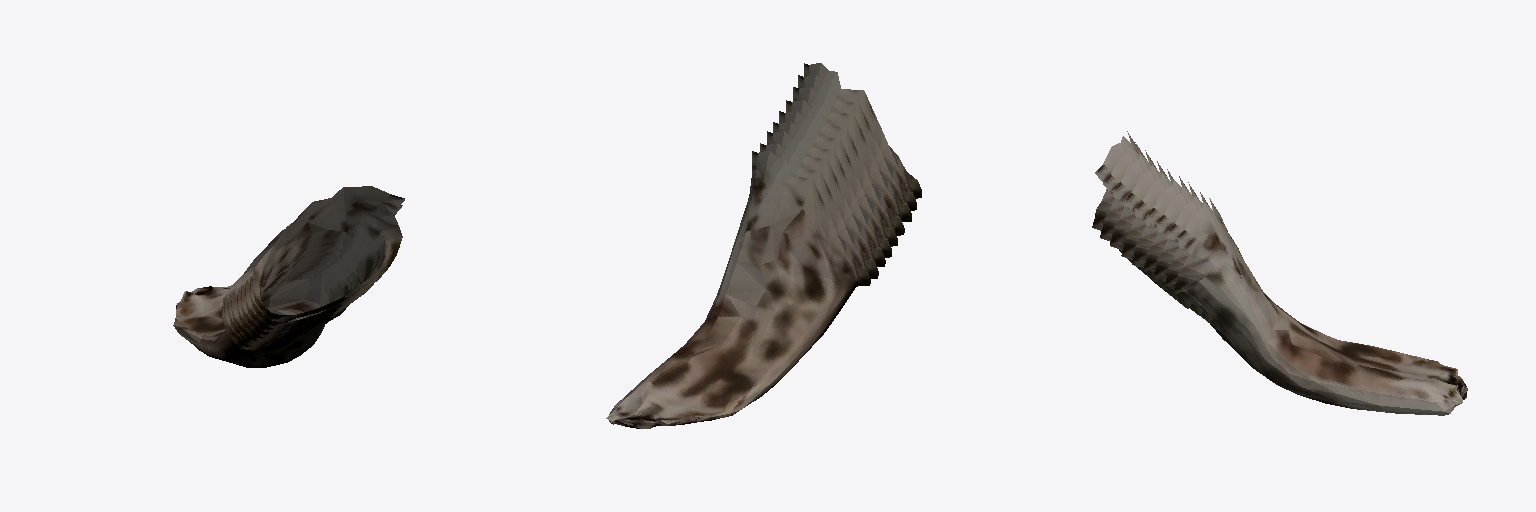
The picture shows the model from 3 angles: view 1: azimuth 30°, elevation 25°; view 2: azimuth 150°, elevation 25°; view 3: azimuth 270°, elevation 25°; orthographic projection.
Parts seen in each view (by area): view 1: cuerpo.001; view 2: cuerpo.001; view 3: cuerpo.001.
Boxes of the visible parts, x1,y1,x2,y2 form: cuerpo.001: [173, 186, 404, 367]; cuerpo.001: [606, 63, 921, 428]; cuerpo.001: [1092, 131, 1467, 415].
Bounding box in the file's own units: 0.0946 × 0.1458 × 0.1995.
1 materials, 1 textured.